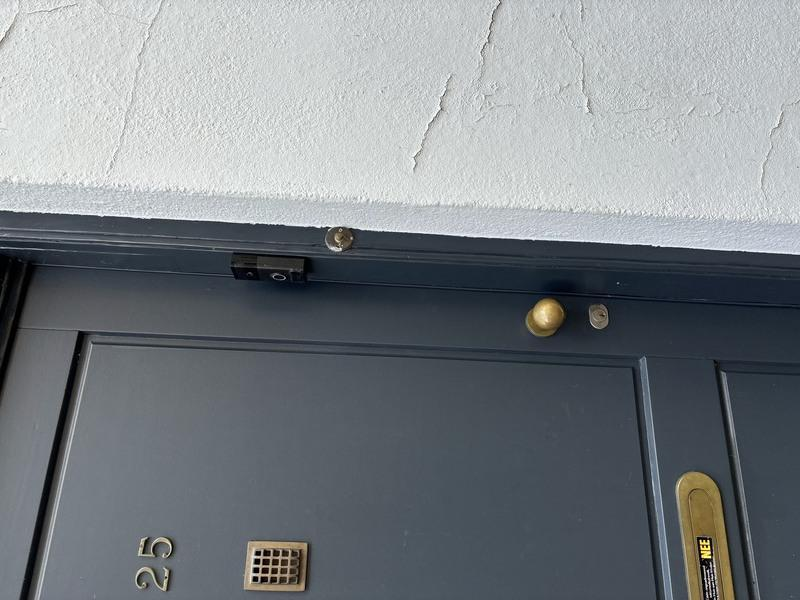doorbell: (313, 232, 353, 312)
